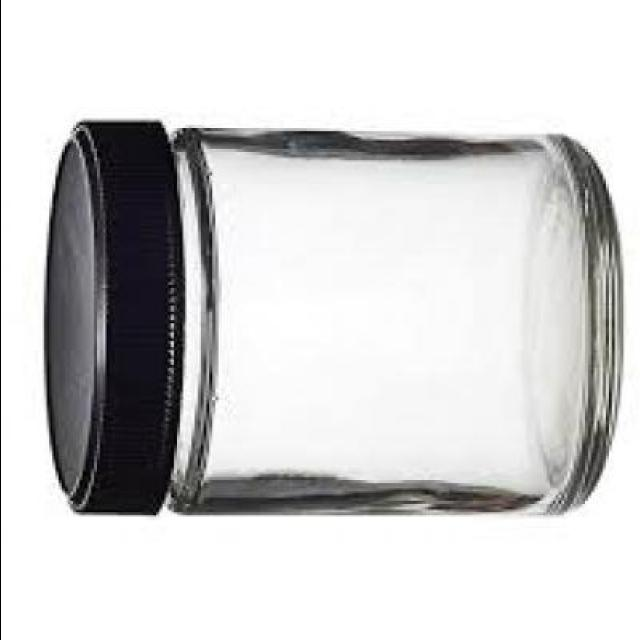kaca: (158, 132, 620, 518)
